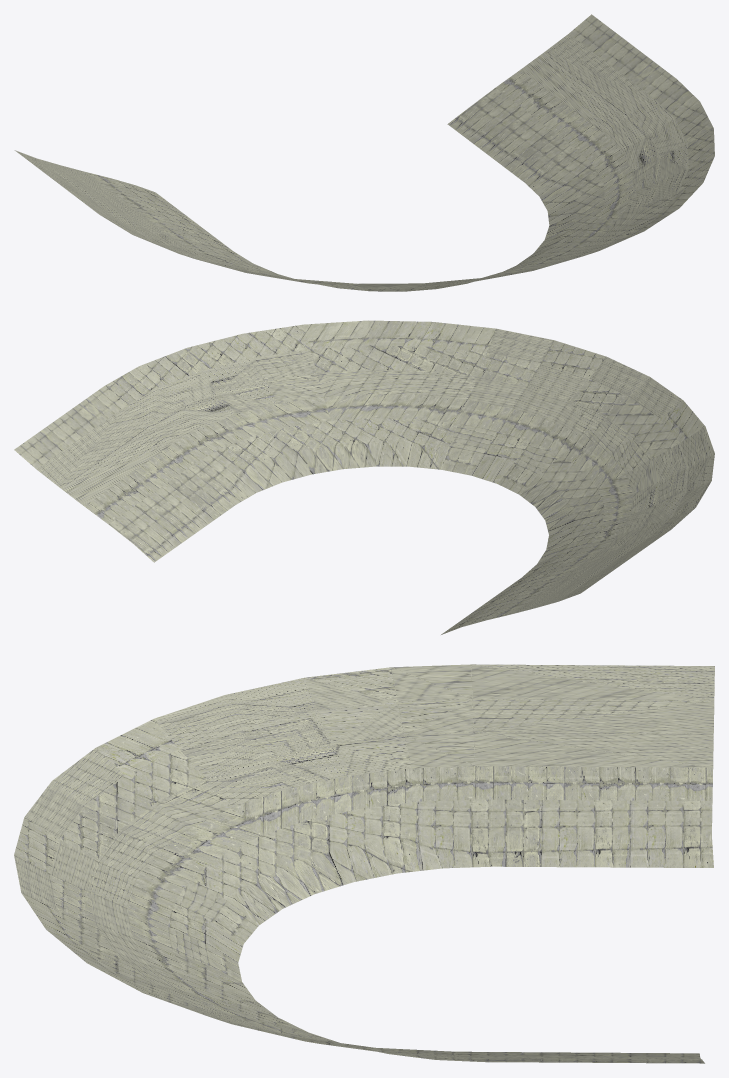
The model's file is SM_Scaffoldingue_StairsCol.fbx.
3 views of the same model, one above another, from view 1: azimuth 30°, elevation 25°; view 2: azimuth 150°, elevation 25°; view 3: azimuth 270°, elevation 25° (orthographic). The views are drawn at different scales.
Parts seen in each view (by area): view 1: SM_Scaffoldingue_StairsCol; view 2: SM_Scaffoldingue_StairsCol; view 3: SM_Scaffoldingue_StairsCol.
Boxes of the visible parts, left/top/right/bottom form: SM_Scaffoldingue_StairsCol: left=14, top=14, right=714, bottom=291; SM_Scaffoldingue_StairsCol: left=14, top=320, right=714, bottom=634; SM_Scaffoldingue_StairsCol: left=14, top=664, right=714, bottom=1063.
Bounding box in the file's own units: 3148 × 402 × 2398.
